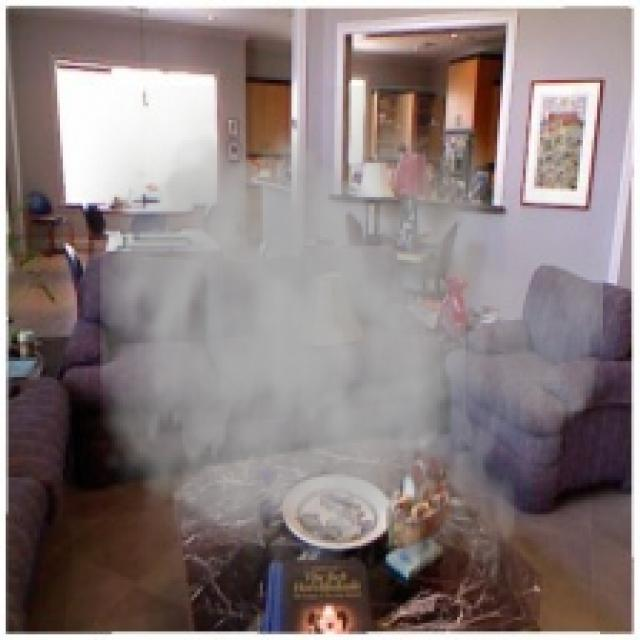smoke: (68, 86, 603, 634)
